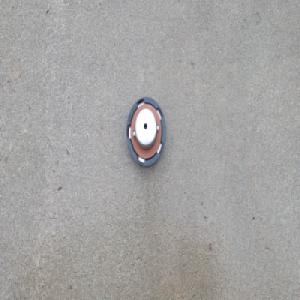FuelCap: (124, 94, 167, 170)
